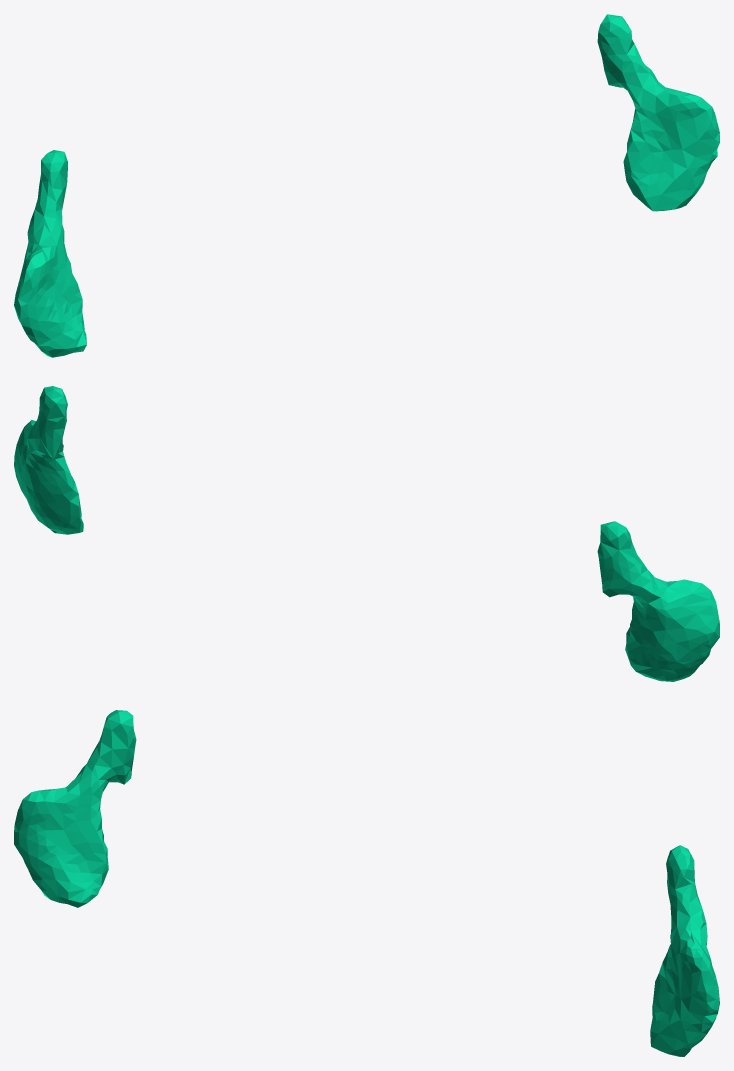
File: 23-V4T-visual area 4, transitional part-('0.0000', '1.0000', '0.7294').obj
3 views of the same model, one above another, from view 1: azimuth 30°, elevation 25°; view 2: azimuth 150°, elevation 25°; view 3: azimuth 330°, elevation 25° (orthographic).
Bounding box in the file's own units: 306 × 73.48 × 33.05.
